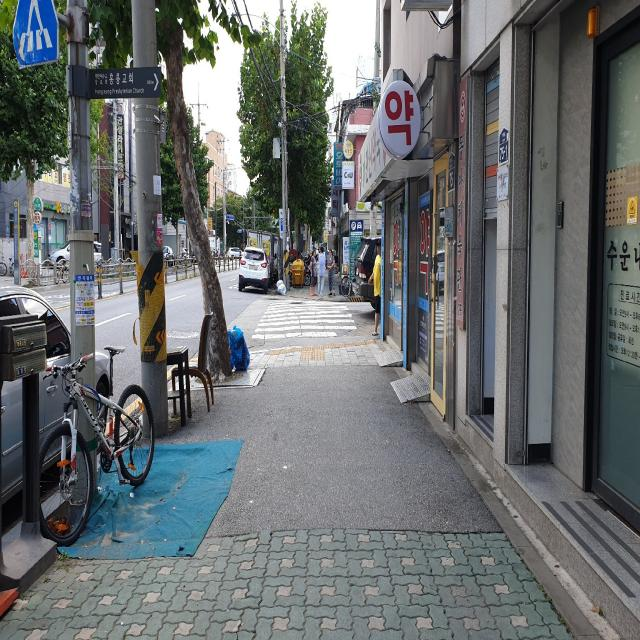횡단보도: (250, 300, 358, 340)
